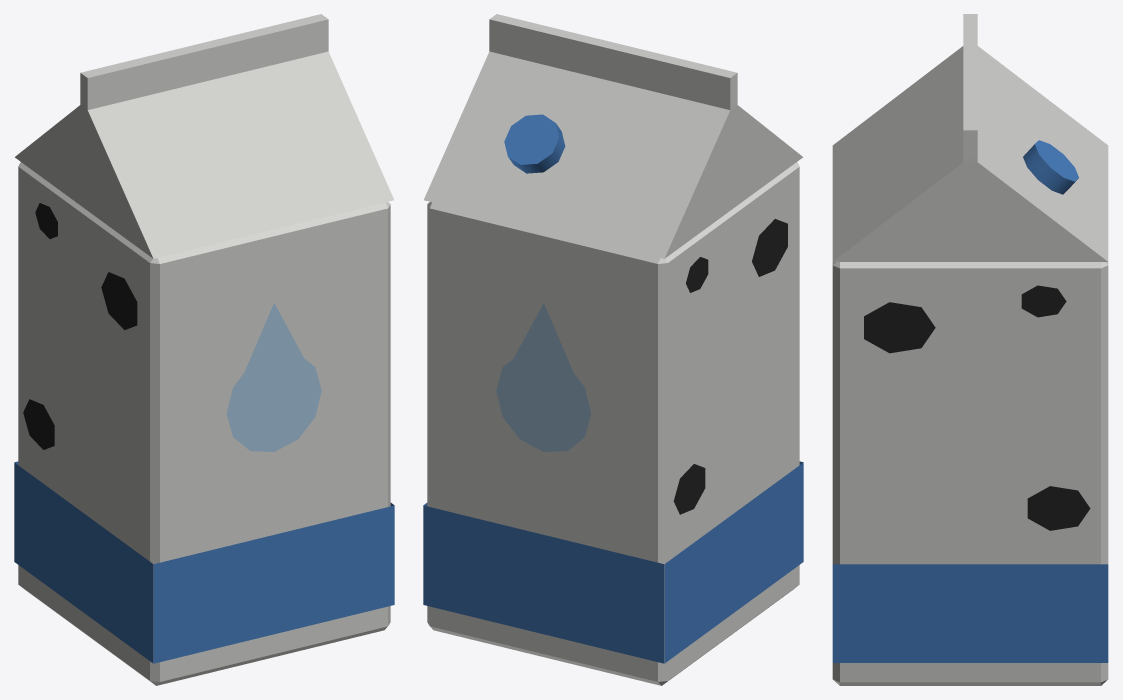
Rendered from kitchen-prop3.glb.
The picture shows the model from 3 angles, left to right: view 1: azimuth 30°, elevation 25°; view 2: azimuth 150°, elevation 25°; view 3: azimuth 270°, elevation 25°; orthographic projection.
Visible parts, largest first — view 1: kitchen-prop3; view 2: kitchen-prop3; view 3: kitchen-prop3.
Boxes of the visible parts, left/top/right/bottom form: kitchen-prop3: left=14, top=14, right=394, bottom=685; kitchen-prop3: left=423, top=14, right=803, bottom=685; kitchen-prop3: left=832, top=14, right=1108, bottom=685.
Size of the model in its own units: 0.762 by 1.7 by 0.762.
